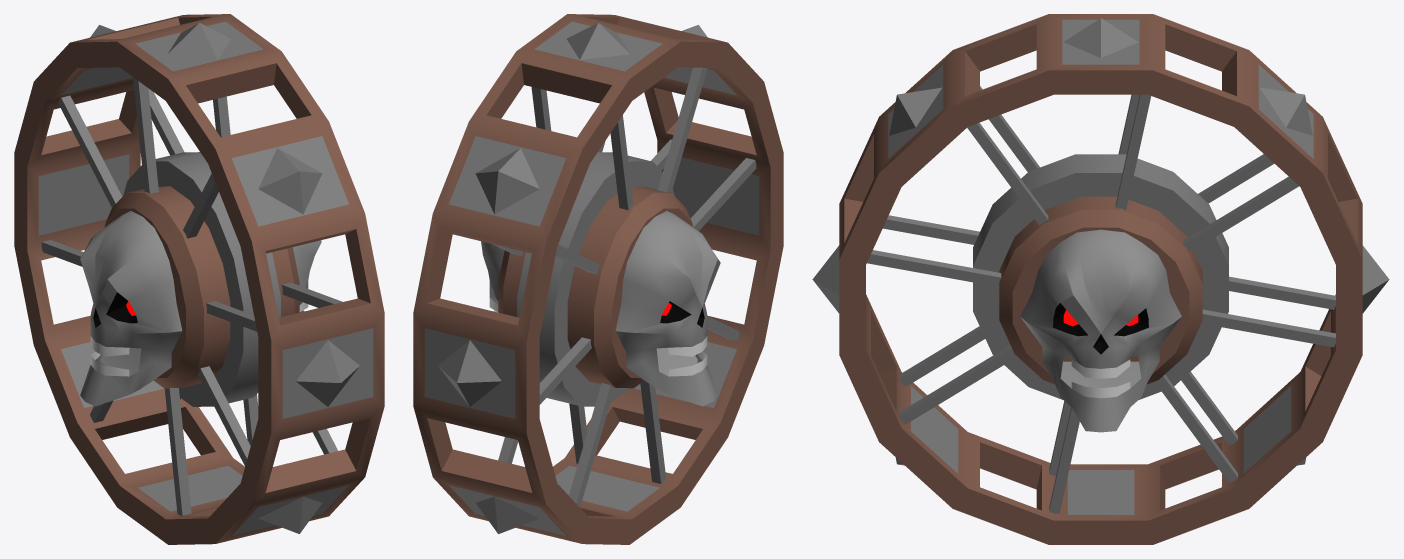
Rendered from SkeletonWheel.fbx.
3 renders of one model, left to right at view 1: azimuth 30°, elevation 25°; view 2: azimuth 150°, elevation 25°; view 3: azimuth 270°, elevation 25°, orthographic.
Visible parts, largest first — view 1: SkeletonWheel; view 2: SkeletonWheel; view 3: SkeletonWheel.
Part boxes in pixels (x1,y1,x2,y2): SkeletonWheel: [14, 14, 384, 544]; SkeletonWheel: [413, 14, 783, 544]; SkeletonWheel: [812, 14, 1389, 544].
Size of the model in its own units: 0.5042 by 1.08 by 1.08.
